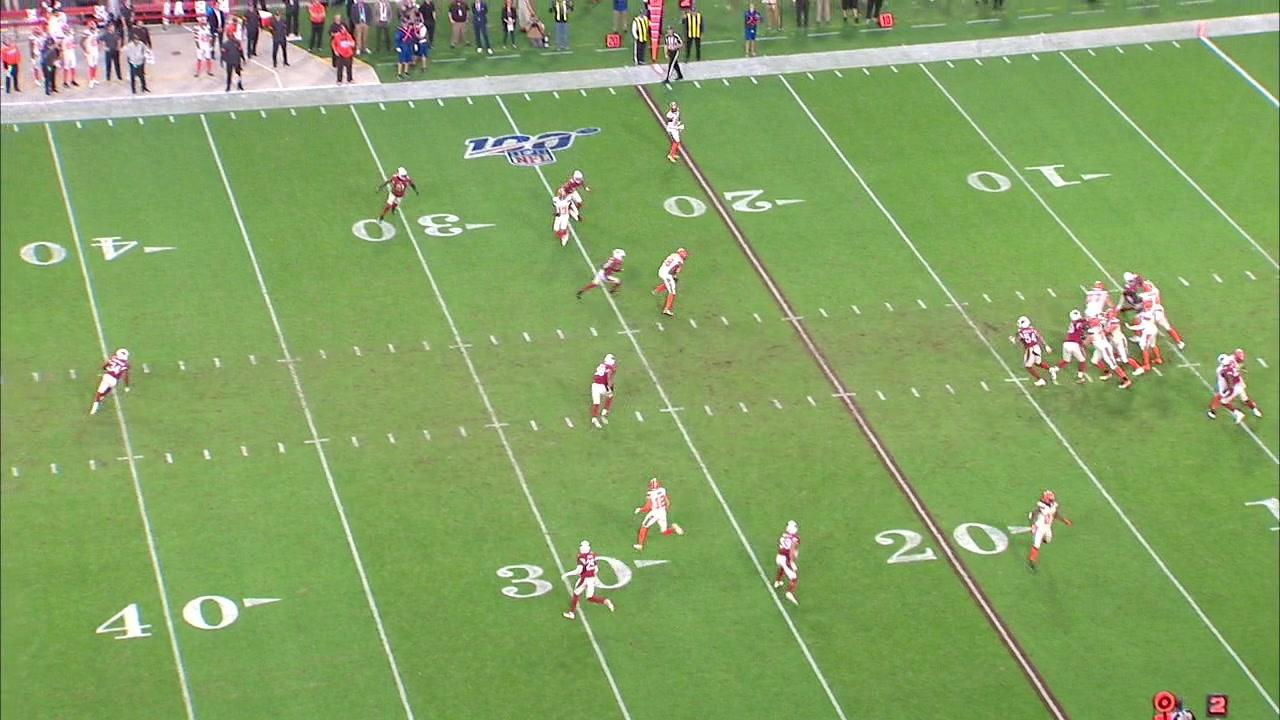defense: (562, 540, 613, 621), (366, 166, 421, 228), (88, 346, 133, 418), (572, 245, 627, 303), (1011, 313, 1053, 387), (772, 517, 806, 606), (1219, 353, 1260, 420), (1054, 306, 1088, 382), (589, 349, 619, 433), (569, 170, 591, 223), (1119, 271, 1143, 307)
oline: (1087, 316, 1131, 389), (1140, 284, 1185, 347), (1101, 308, 1141, 375), (1207, 349, 1244, 419), (1085, 277, 1113, 313)
qb: (1133, 300, 1166, 373)
ref: (661, 27, 684, 90)
skill: (632, 475, 684, 555), (1023, 490, 1068, 575), (651, 244, 692, 318), (550, 189, 574, 249), (666, 99, 685, 165)
